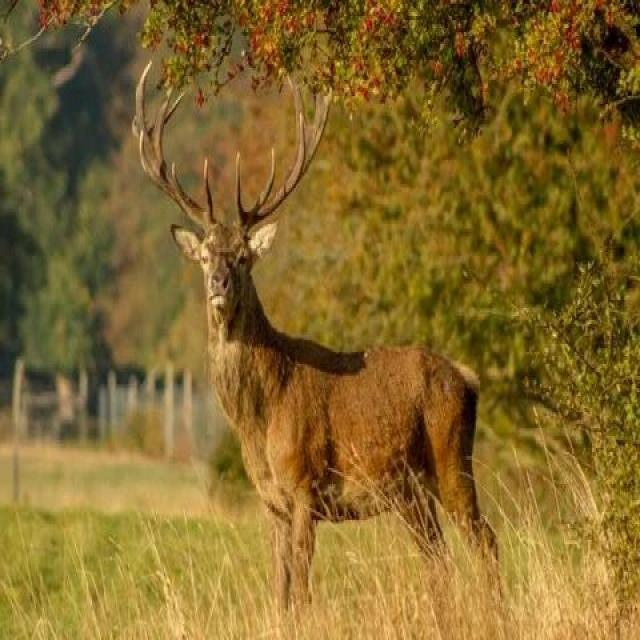deer: (112, 61, 526, 571)
